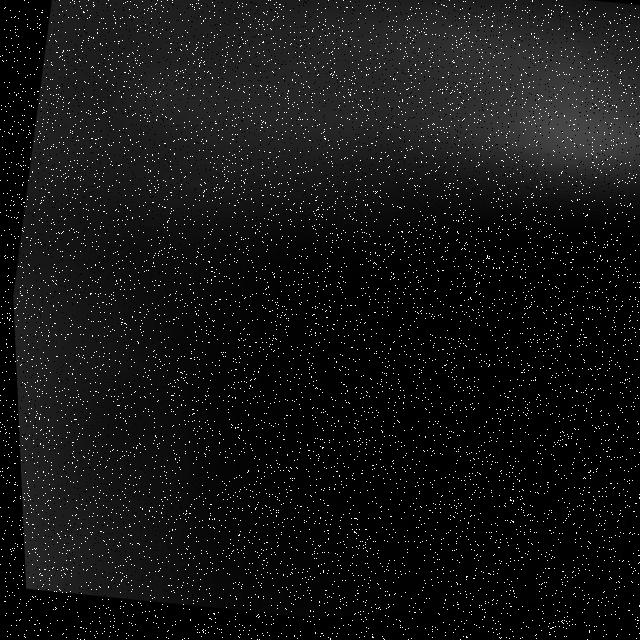person: (77, 1, 640, 292)
